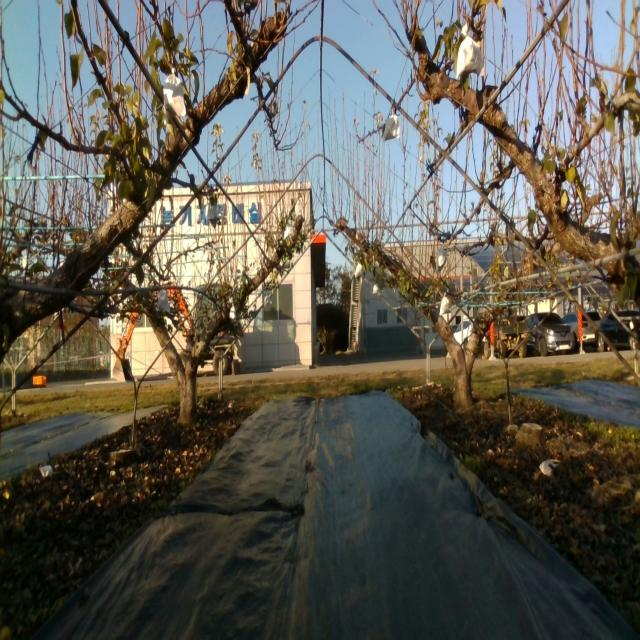pearbags: (456, 24, 485, 77), (163, 64, 187, 125), (383, 107, 399, 142), (157, 288, 171, 316), (205, 202, 217, 228), (440, 292, 452, 316), (436, 247, 447, 273)
